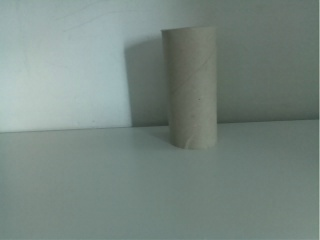rollo papel: (160, 26, 222, 149)
